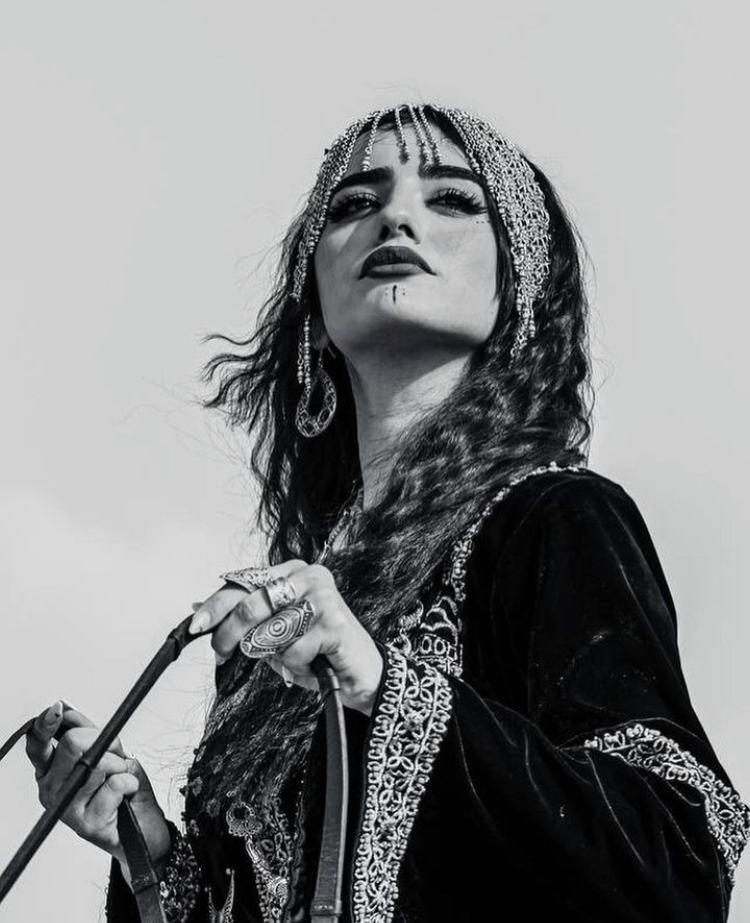Saudi_Founding_Day: (22, 99, 750, 922)
